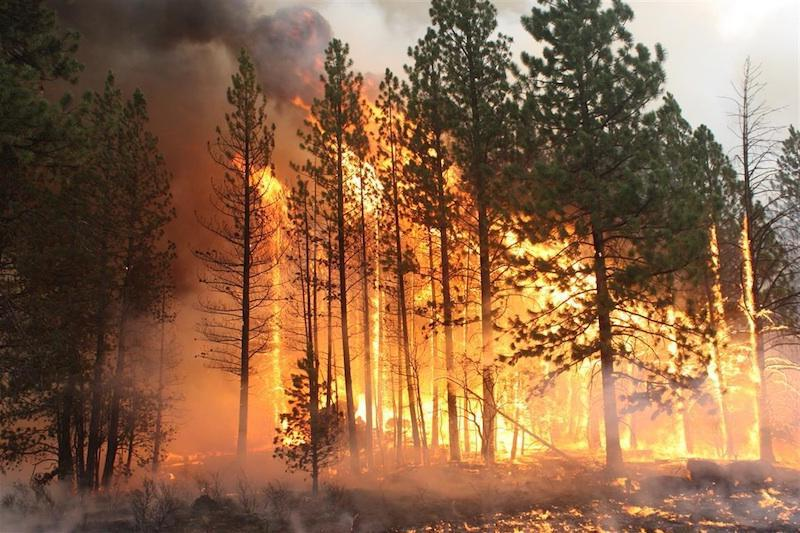fire: (216, 141, 773, 473)
